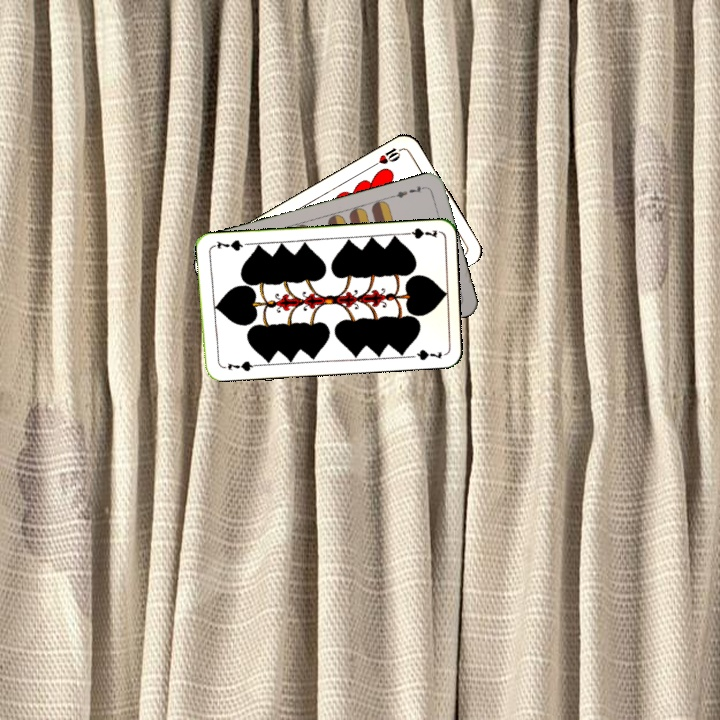E7: (388, 181, 428, 201)
G7: (399, 224, 440, 241), (218, 357, 259, 374)
H10: (369, 143, 406, 169)
